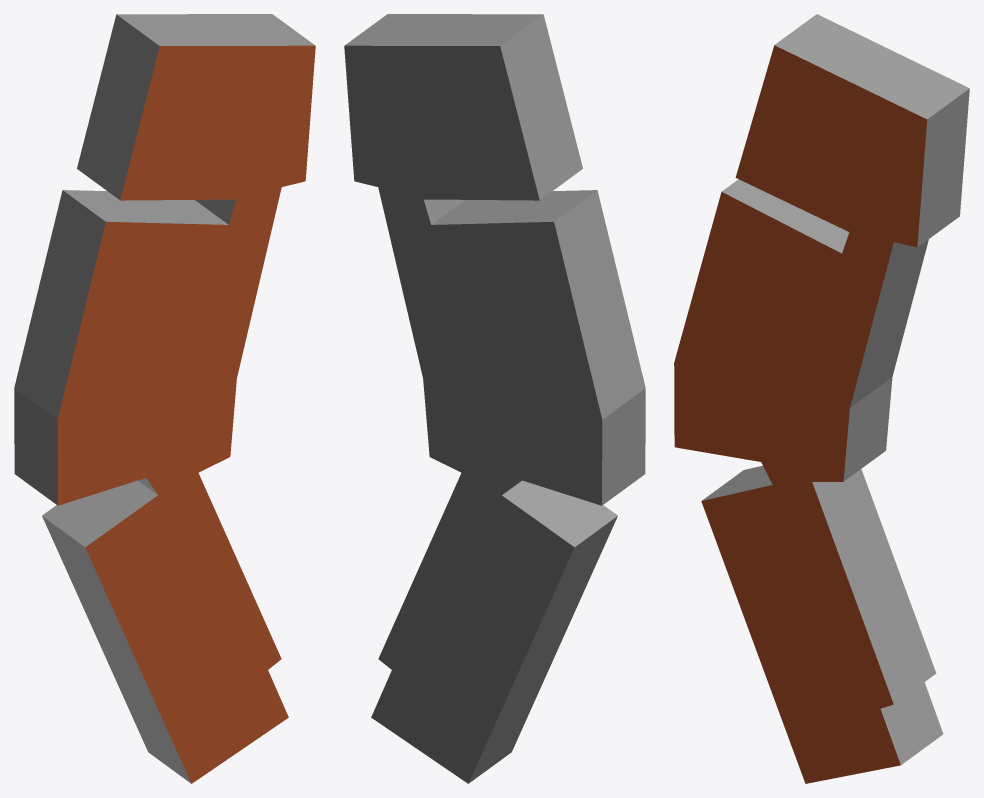
Rendered from construction_3865_assumed_A_Casa_h6m.obj.
3 views of the same model, side by side, from view 1: azimuth 30°, elevation 25°; view 2: azimuth 150°, elevation 25°; view 3: azimuth 330°, elevation 25° (orthographic).
Parts seen in each view (by area): view 1: construction_3865_assumed_A_Casa; view 2: construction_3865_assumed_A_Casa; view 3: construction_3865_assumed_A_Casa.
Boxes of the visible parts, x1,y1,x2,y2 form: construction_3865_assumed_A_Casa: (14, 14, 315, 783); construction_3865_assumed_A_Casa: (344, 14, 645, 783); construction_3865_assumed_A_Casa: (674, 14, 969, 783).
Bounding box in the file's own units: 20.6 × 56.86 × 6.
